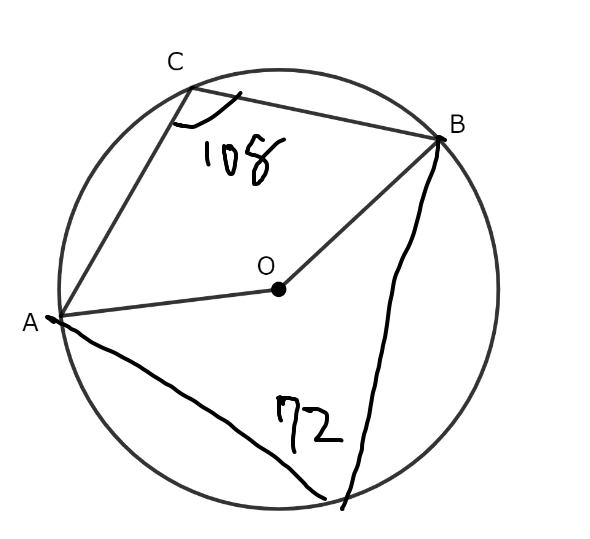Angle_Scurve: (171, 90, 245, 135)
